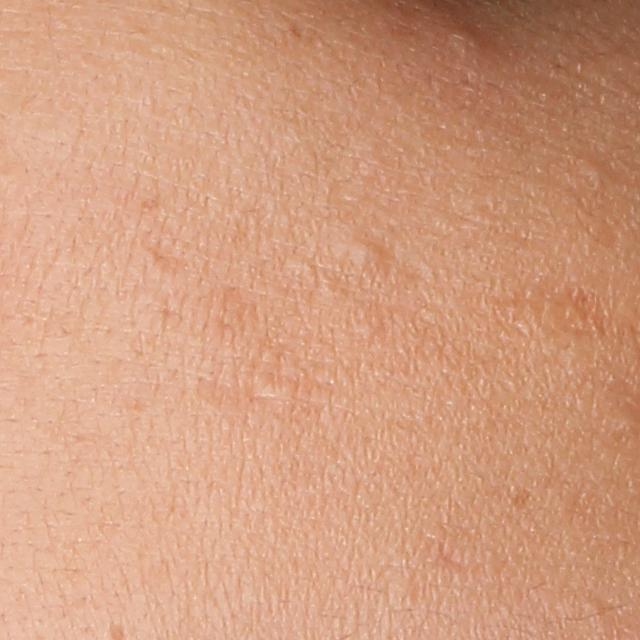comedo: (349, 230, 389, 272), (577, 154, 612, 187), (450, 26, 486, 56)
